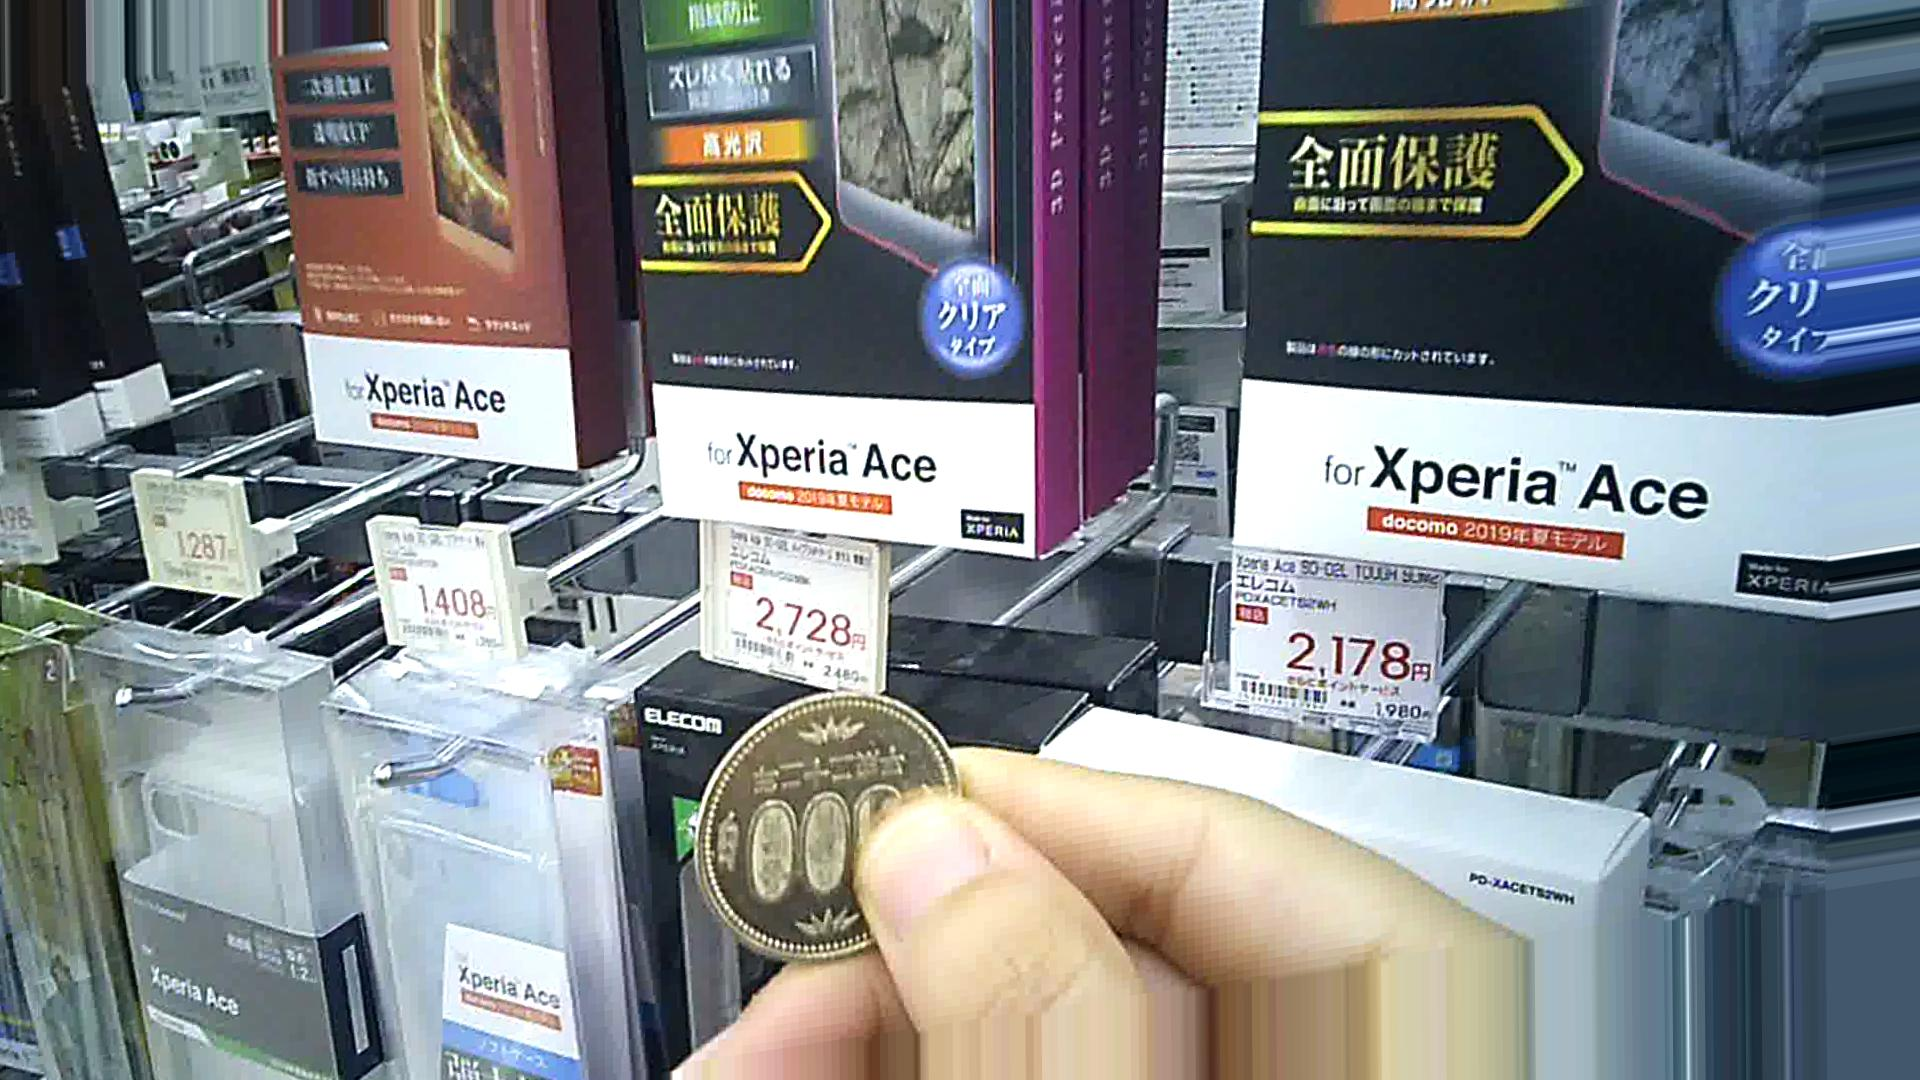500 Yen: (684, 696, 956, 969)
